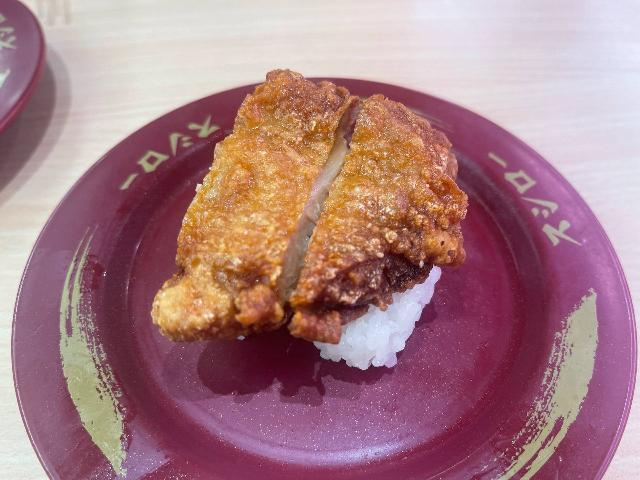janred: (98, 99, 537, 470), (0, 0, 70, 117)
